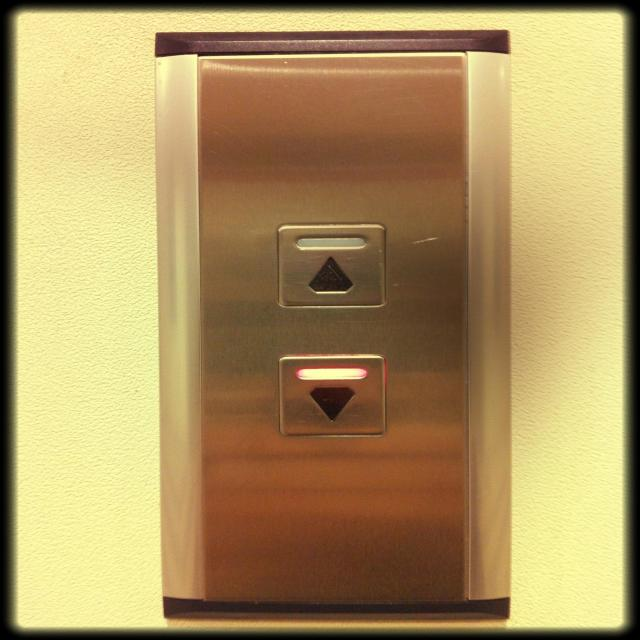down: (276, 352, 388, 438)
up: (274, 221, 387, 310)
